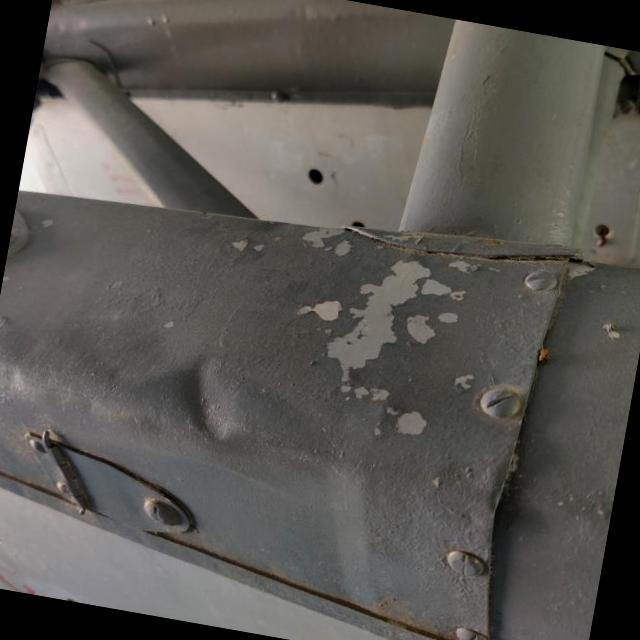dent: (154, 351, 262, 452)
